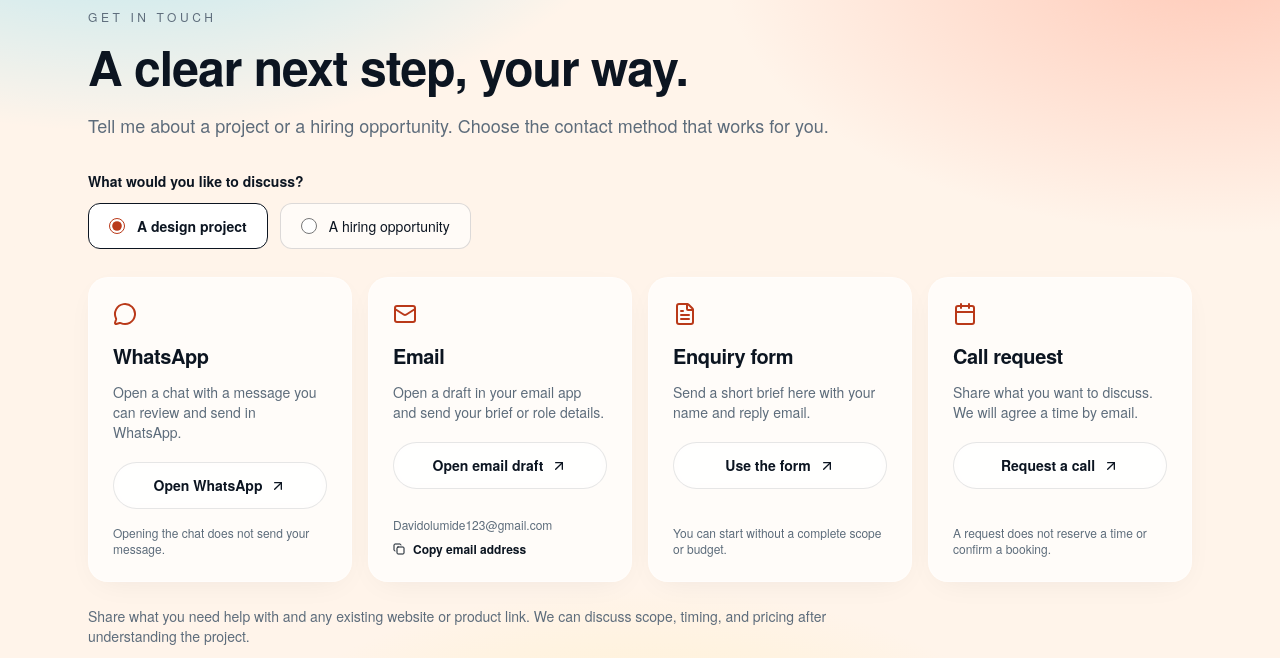
Scenario: contact choices › keeps the brief after a failed submission and permits a successful retry
Click the button "Use the form" at [780, 466], box [673,442,887,489]
(page scrolled)
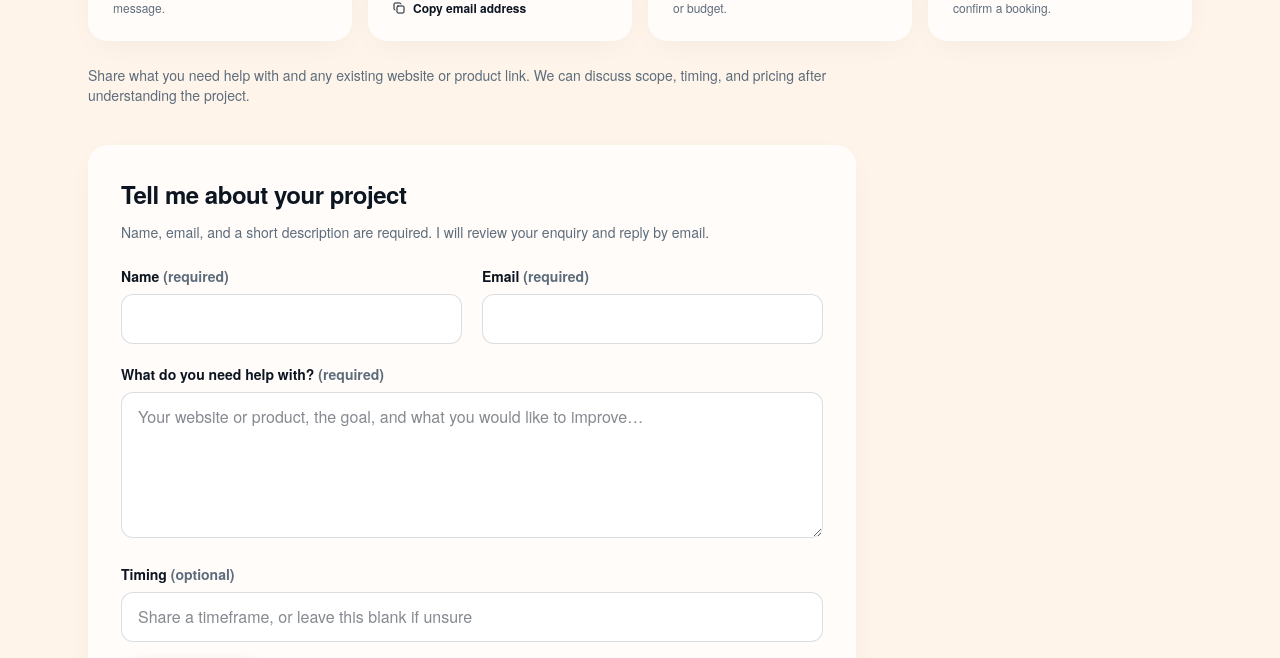
Type "Preview Tester" into the field labelled "Name (required)" at [292, 319], box [121,294,462,344]
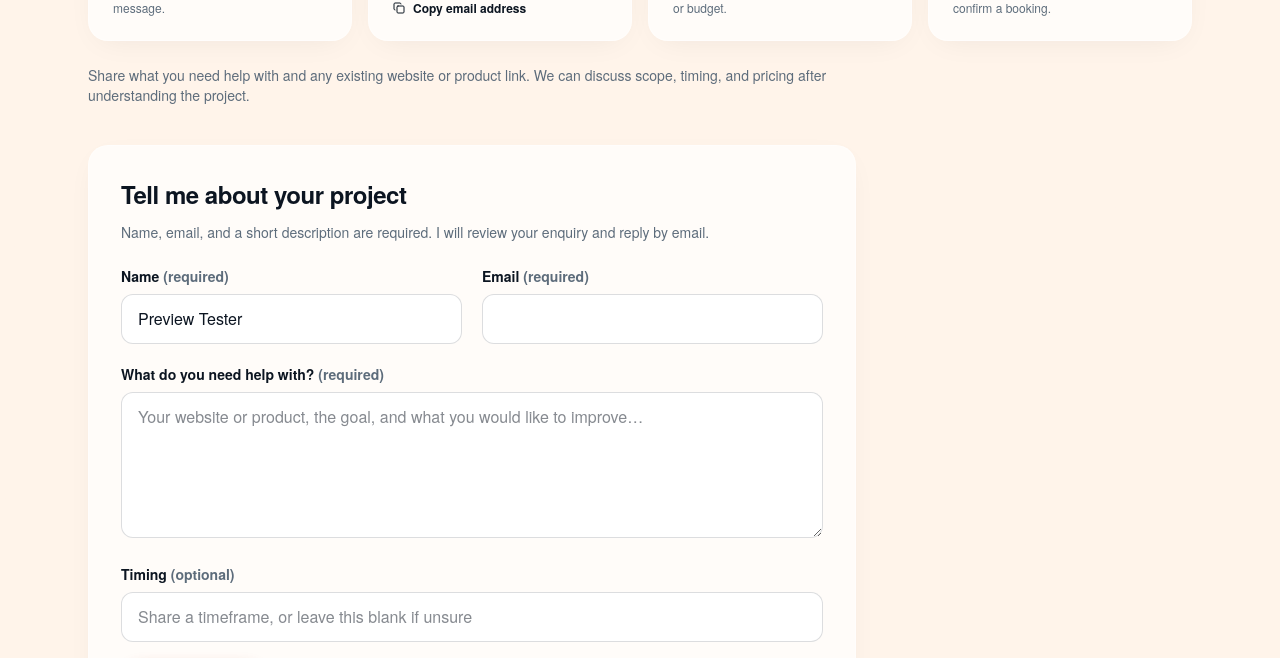
Type "preview@example.com" into the field labelled "Email (required)" at [652, 319], box [482,294,823,344]
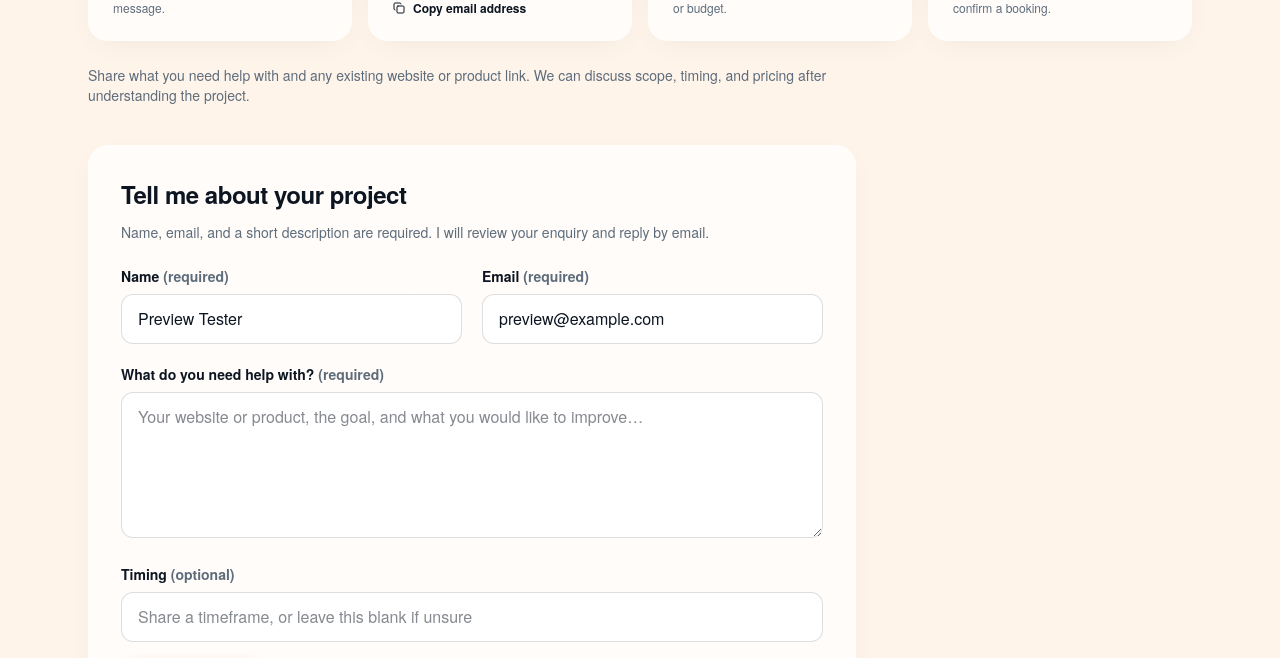
Replace the text in the text box labelled "What do you need help with? (required)" with "Please help improve our website." at [472, 465], box [121,392,823,538]
(page scrolled)
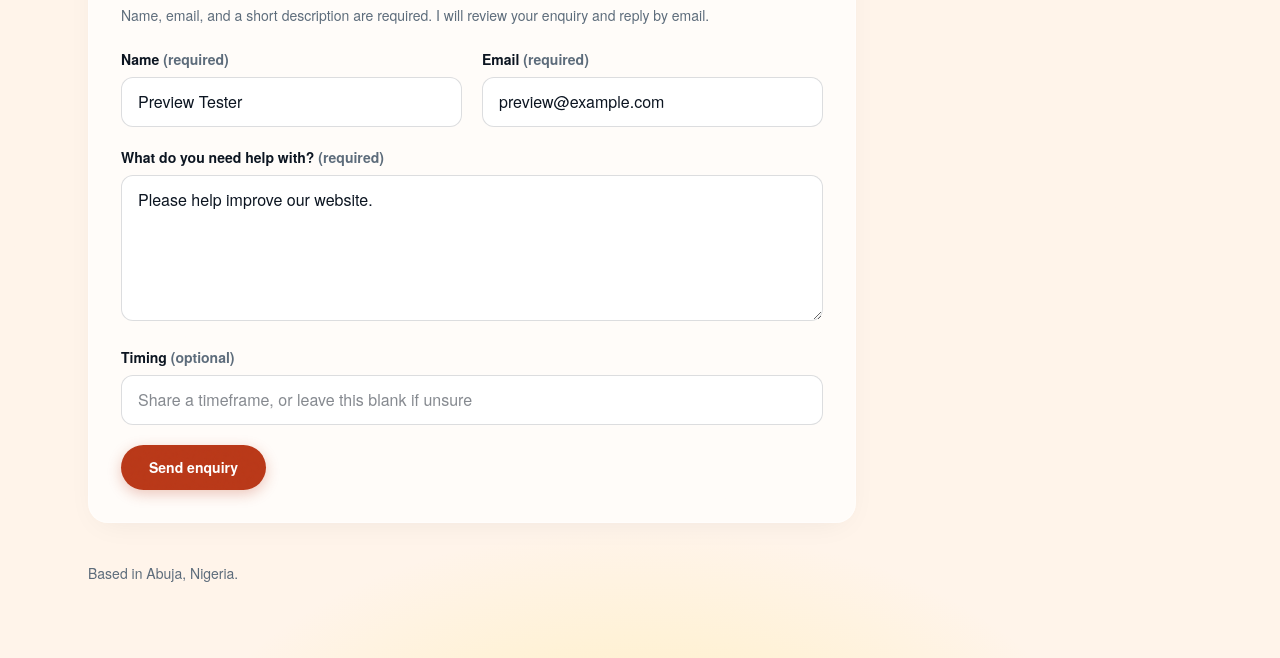
Click the button "Send enquiry" at [194, 468], box [121,445,266,490]
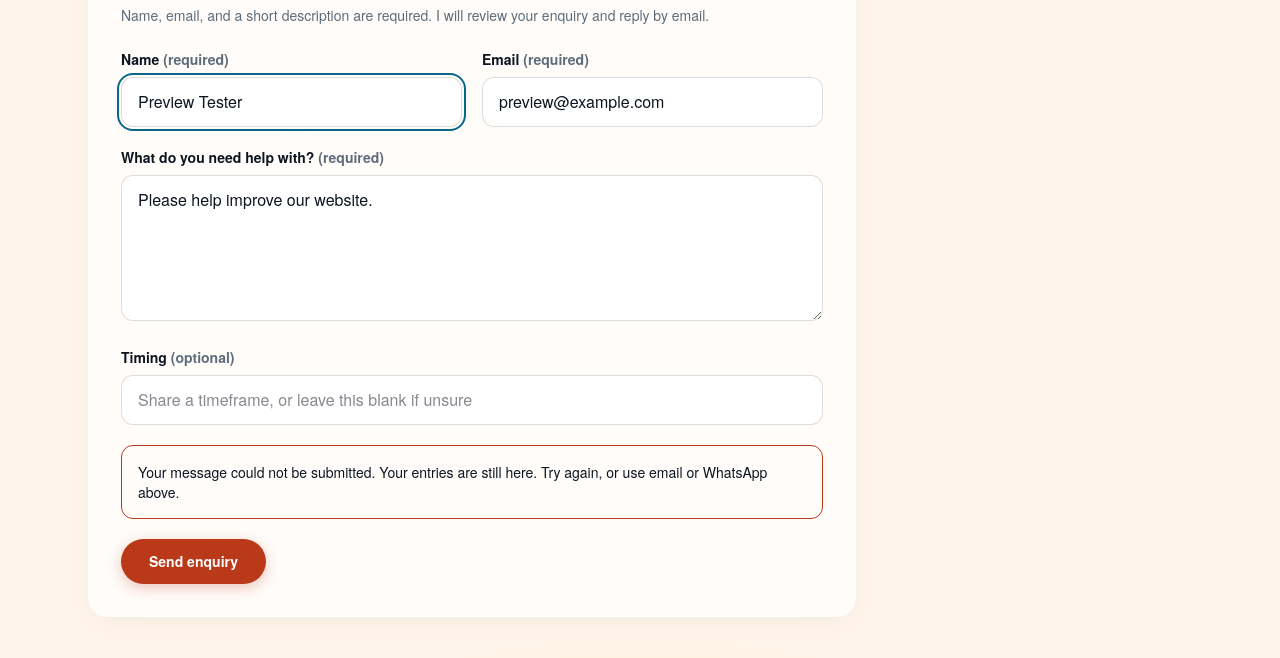
Result: the message shows "Your entries are still here" at [138,462,767,502]
Click the button "Send enquiry" at [194, 562], box [121,539,266,584]
(page scrolled)
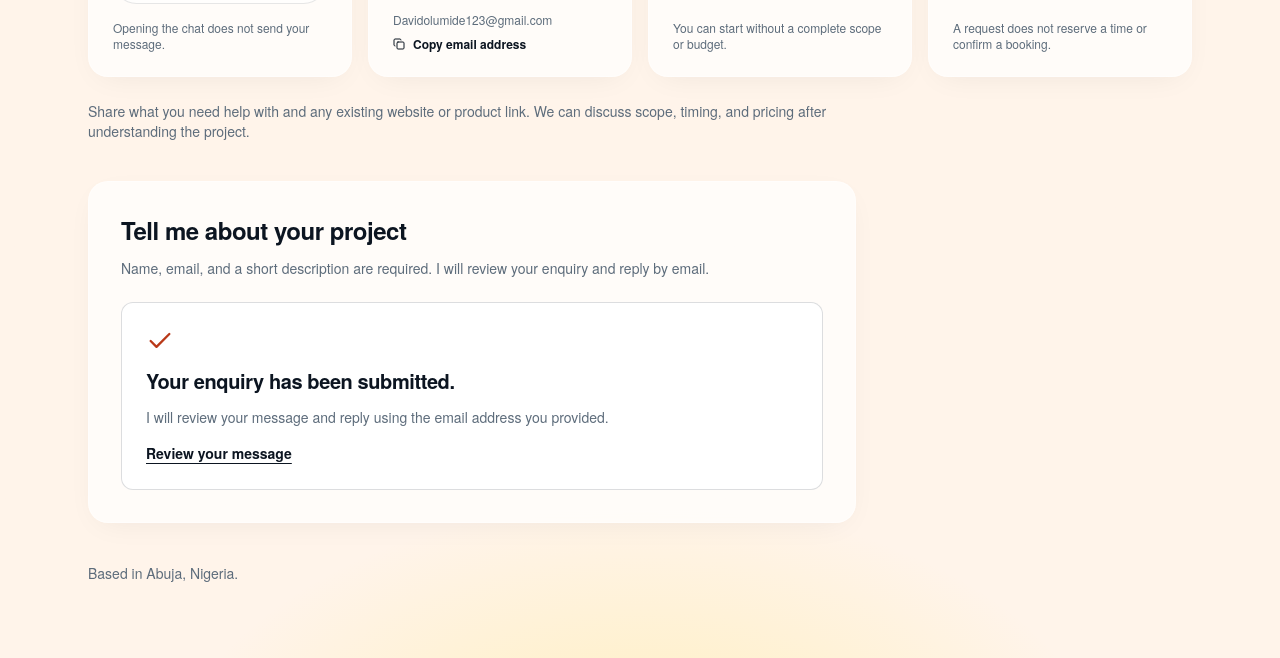
Result: the heading "Your enquiry has been submitted." is shown at [146,366,455,395]
